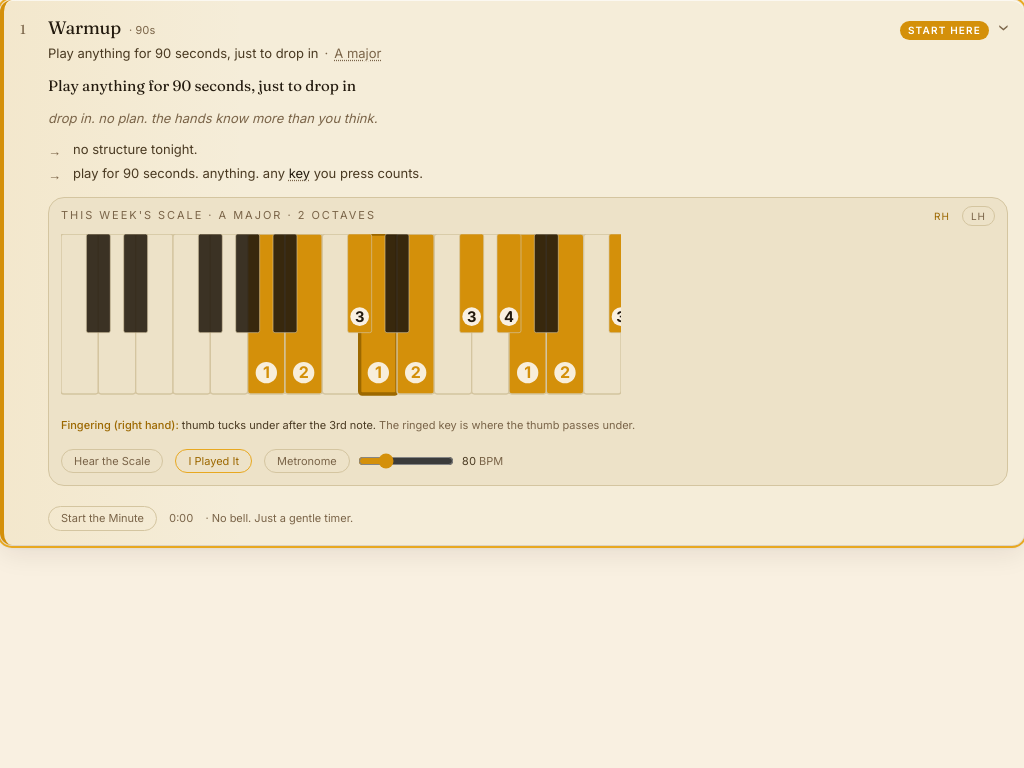
Test case: WarmupSlot surfaces fingering for the current key — ANY warmup type › toggles to the left-hand cue when LH is selected
This screenshot has width=1024, height=768.
Click the button "LH" at (978, 216), box [962, 206, 995, 226]
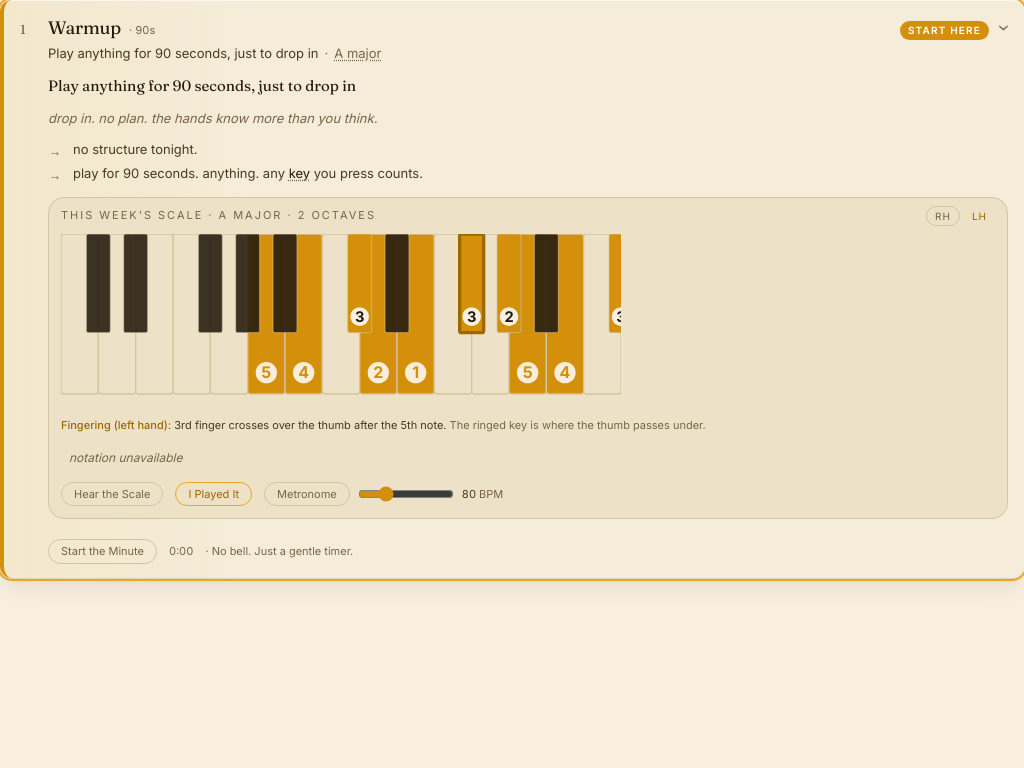
Check: the element with test id "fingering-cue" shows "crosses over the thumb", box [174, 418, 443, 432]
